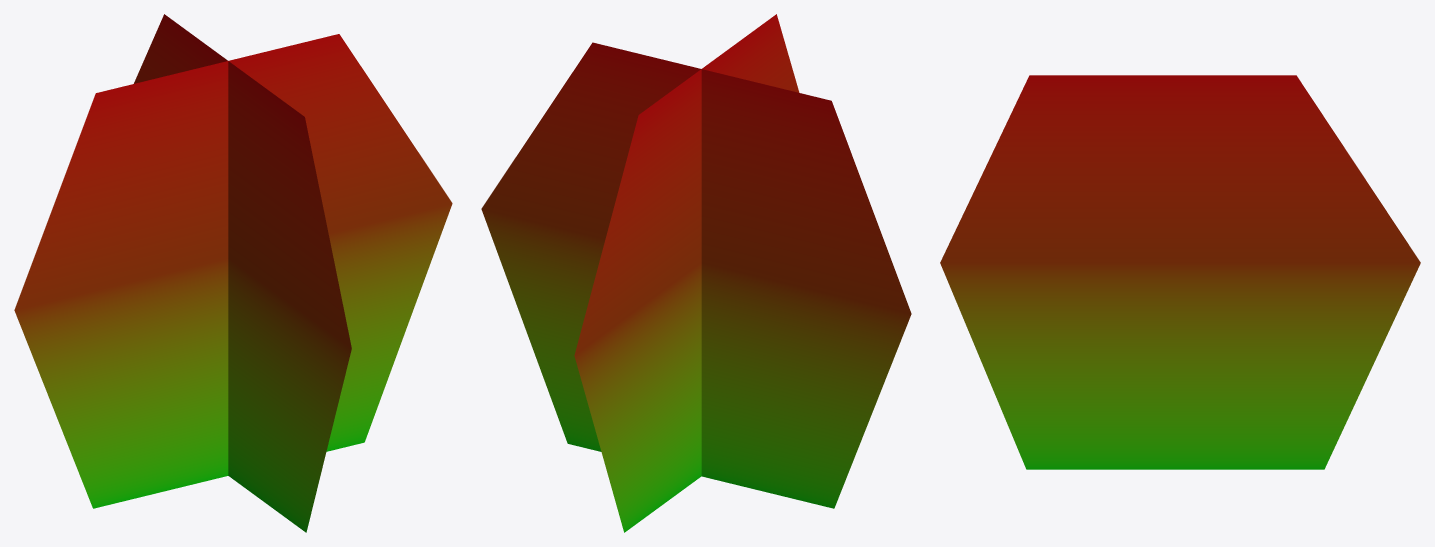
File: Var4_LOD5.fbx
3 views of the same model, side by side, from view 1: azimuth 30°, elevation 25°; view 2: azimuth 150°, elevation 25°; view 3: azimuth 270°, elevation 25° (orthographic). The views are drawn at different scales.
Parts seen in each view (by area): view 1: _mcjj_Var4_LOD5; view 2: _mcjj_Var4_LOD5; view 3: _mcjj_Var4_LOD5.
Boxes of the visible parts, x1,y1,x2,y2 form: _mcjj_Var4_LOD5: (14, 14, 452, 532); _mcjj_Var4_LOD5: (481, 14, 911, 532); _mcjj_Var4_LOD5: (940, 75, 1420, 469).
Bounding box in the file's own units: 89.17 × 80.68 × 89.17.
